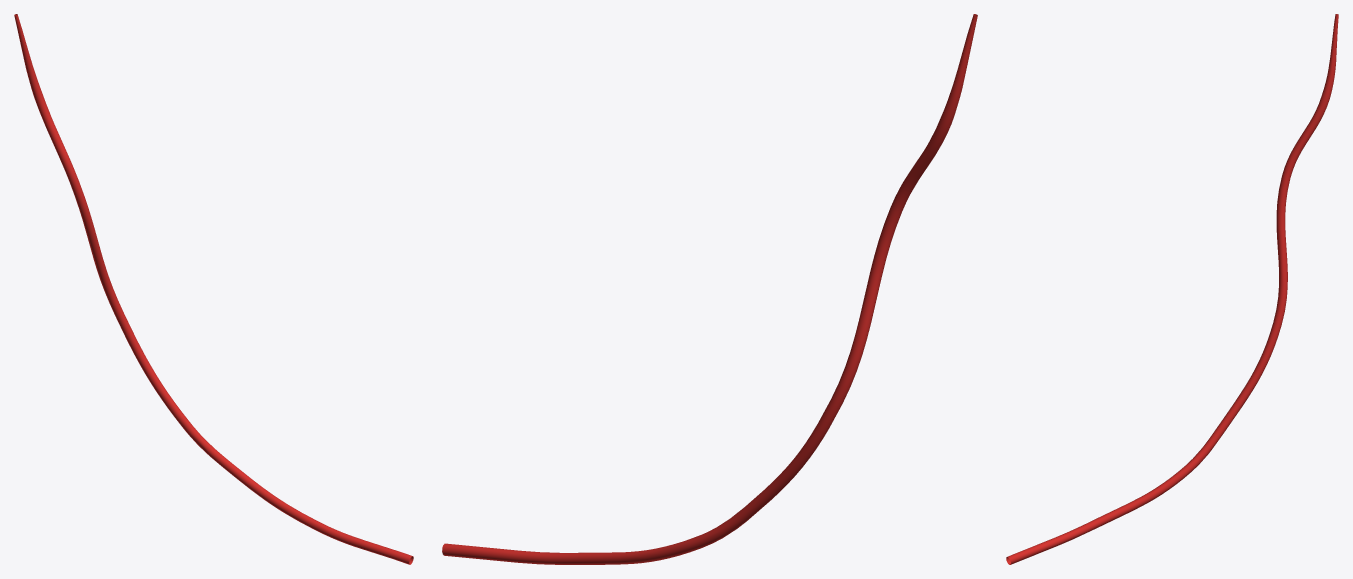
Rendered from circulatorio-posterior-auricular-vein-r.glb.
3 views of the same model, side by side, from view 1: azimuth 30°, elevation 25°; view 2: azimuth 210°, elevation 25°; view 3: azimuth 270°, elevation 25° (orthographic). The views are drawn at different scales.
Parts seen in each view (by area): view 1: Posterior auricular vein.r; view 2: Posterior auricular vein.r; view 3: Posterior auricular vein.r.
Part boxes in pixels (<box>): Posterior auricular vein.r: <box>14,14,413,564</box>; Posterior auricular vein.r: <box>442,14,977,564</box>; Posterior auricular vein.r: <box>1006,14,1338,564</box>.
Bounding box in the file's own units: 0.028 × 0.0564 × 0.0378.
